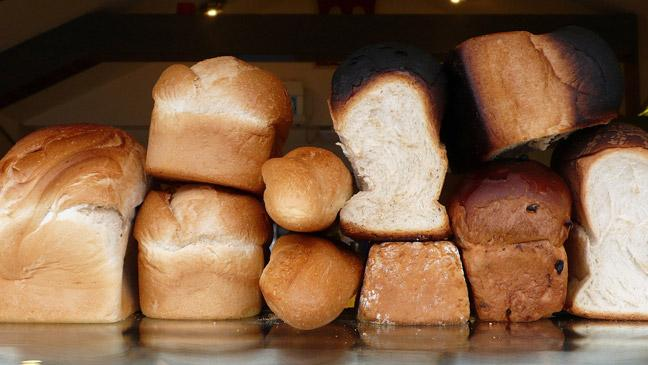slice of bread: (5, 121, 147, 330), (327, 50, 454, 248), (450, 26, 619, 162), (448, 171, 587, 333), (127, 182, 275, 332), (146, 48, 289, 198), (567, 128, 648, 326), (356, 230, 474, 340), (245, 136, 354, 233), (270, 230, 363, 335)
